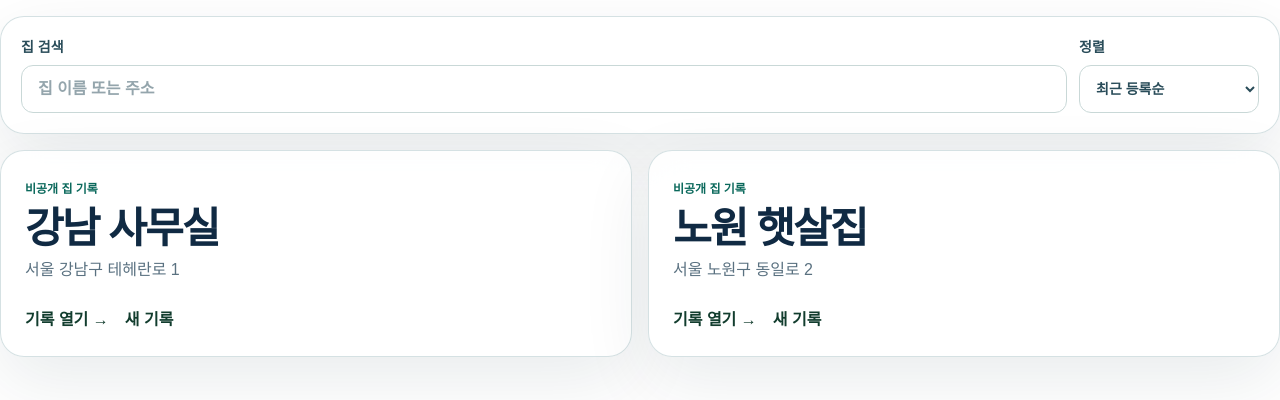
Scenario: HomeDirectory › TEST-ZSD-WEB-001 searches only the supplied accessible homes
This screenshot has width=1280, height=400.
Step 1. Type "노원" into the search field labelled "집 검색" → [544, 89], box [21,65,1067,113]
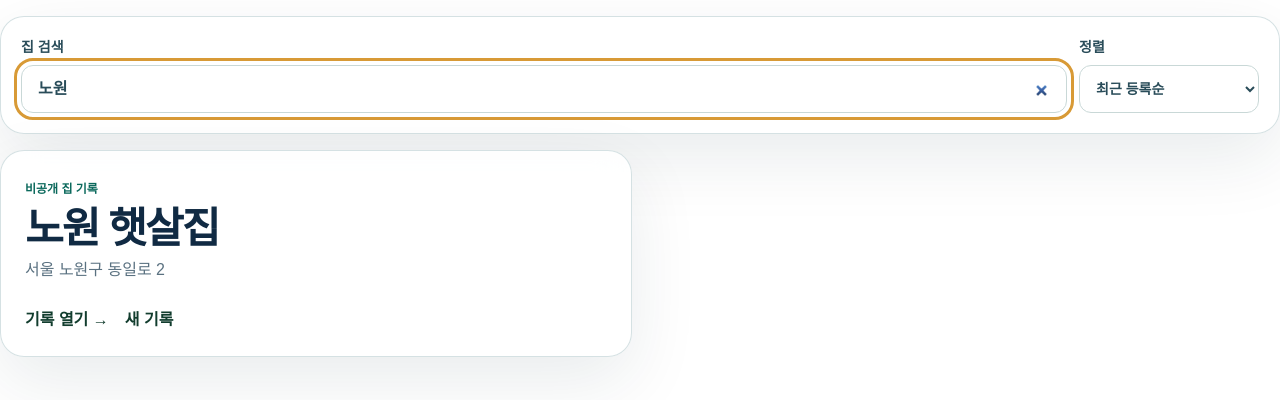
expect the heading "노원 햇살집" is shown: met, box [25,205,218,252]
expect the heading "강남 사무실" is gone: met
